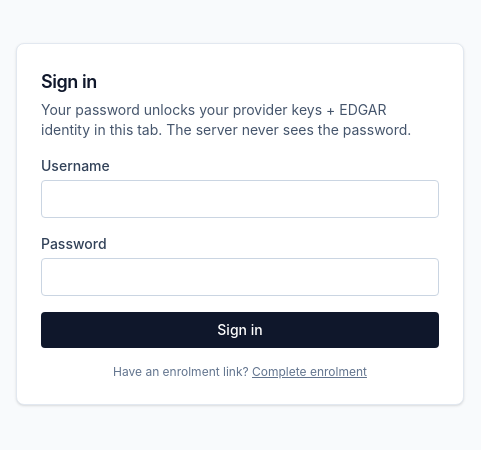
Test: LoginGate — submission › surfaces 401 login_refused verbatim without echoing the username
This screenshot has width=481, height=450.
Type "secret-account" into the field labelled "Username" at coordinates (240, 199), box [41,180,439,218]
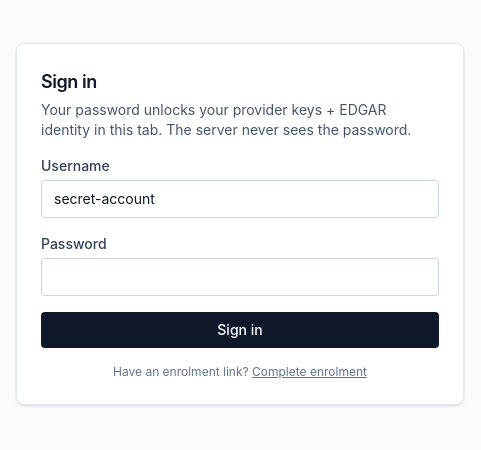
Type "wrong" into the password field labelled "Password" at coordinates (240, 277), box [41,258,439,296]
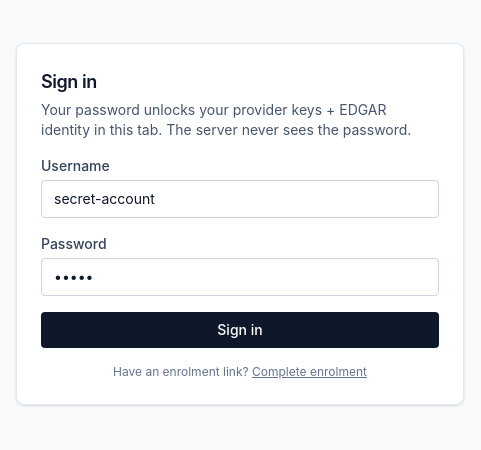
Click the button "Sign in" at coordinates (240, 330), box [41,312,439,348]
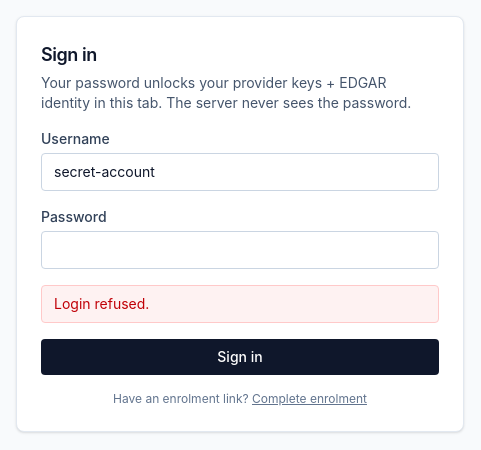
Expected: the message does not show "secret-account"
Now the message reads "Login refused.", box [54,295,149,312]
